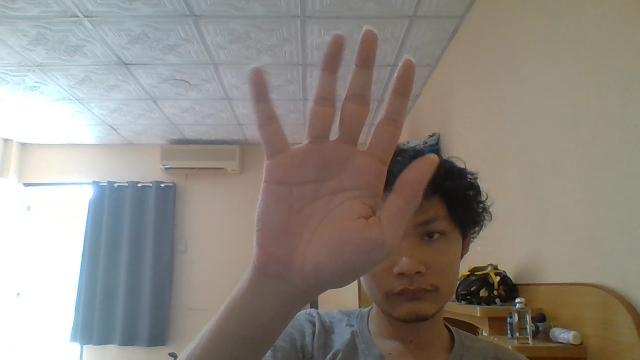Stop: (247, 26, 438, 298)
